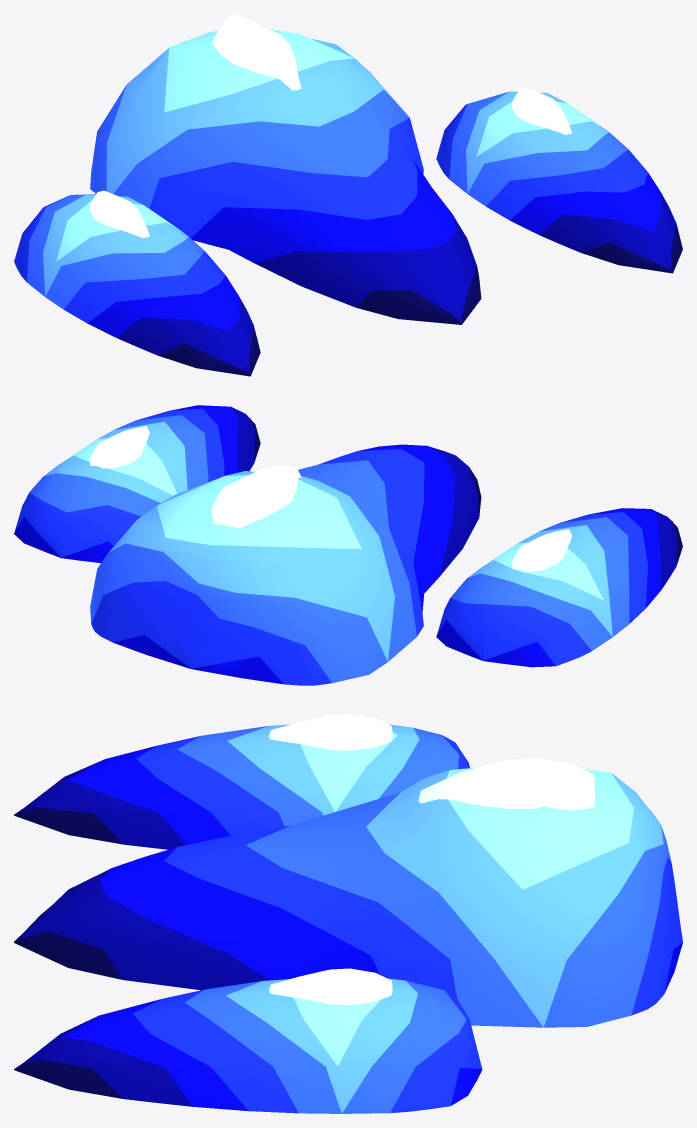
Rendered from shot_sidekick_gerund.glb.
The picture shows the model from 3 angles, top to bottom: view 1: azimuth 30°, elevation 25°; view 2: azimuth 150°, elevation 25°; view 3: azimuth 270°, elevation 25°; orthographic projection. The views are drawn at different scales.
Visible parts, largest first — view 1: shot_sidekick_gerund_middle_fire, shot_sidekick_gerund_left_fire, shot_sidekick_gerund_right_fire, shot_sidekick_gerund_middle_core, shot_sidekick_gerund_left_core, shot_sidekick_gerund_right_core; view 2: shot_sidekick_gerund_middle_fire, shot_sidekick_gerund_left_fire, shot_sidekick_gerund_right_fire, shot_sidekick_gerund_middle_core, shot_sidekick_gerund_left_core, shot_sidekick_gerund_right_core; view 3: shot_sidekick_gerund_middle_fire, shot_sidekick_gerund_right_fire, shot_sidekick_gerund_left_fire, shot_sidekick_gerund_middle_core, shot_sidekick_gerund_left_core, shot_sidekick_gerund_right_core.
Boxes of the visible parts, x1,y1,x2,y2 form: shot_sidekick_gerund_middle_fire: [90, 28, 481, 324]; shot_sidekick_gerund_left_fire: [14, 194, 260, 376]; shot_sidekick_gerund_right_fire: [436, 91, 682, 273]; shot_sidekick_gerund_middle_core: [212, 14, 301, 90]; shot_sidekick_gerund_left_core: [89, 190, 149, 237]; shot_sidekick_gerund_right_core: [512, 87, 571, 134]; shot_sidekick_gerund_middle_fire: [90, 444, 481, 685]; shot_sidekick_gerund_left_fire: [436, 508, 682, 667]; shot_sidekick_gerund_right_fire: [14, 405, 260, 563]; shot_sidekick_gerund_middle_core: [211, 465, 301, 528]; shot_sidekick_gerund_left_core: [512, 529, 572, 571]; shot_sidekick_gerund_right_core: [89, 426, 149, 468]; shot_sidekick_gerund_middle_fire: [14, 767, 682, 1027]; shot_sidekick_gerund_right_fire: [14, 978, 482, 1113]; shot_sidekick_gerund_left_fire: [14, 724, 469, 849]; shot_sidekick_gerund_middle_core: [418, 758, 595, 810]; shot_sidekick_gerund_left_core: [269, 714, 392, 750]; shot_sidekick_gerund_right_core: [269, 968, 392, 1005].
Size of the model in its own units: 12.1 by 3.05 by 10.
